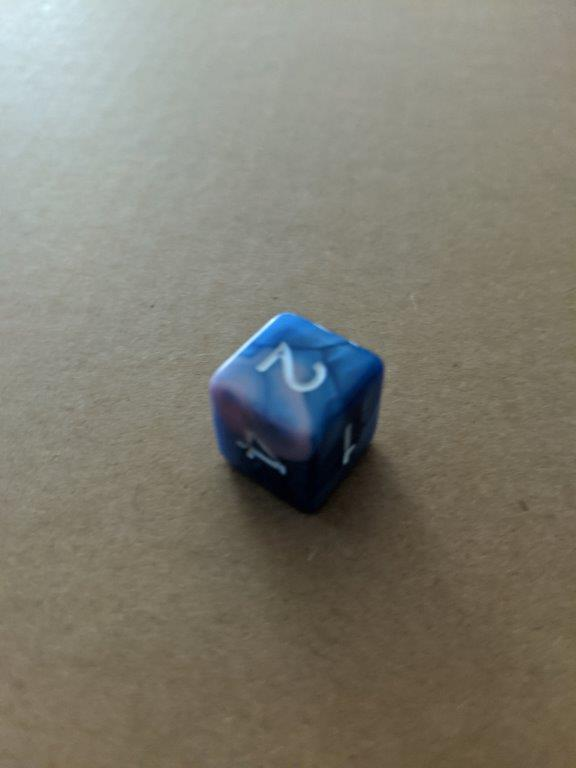d6-2: (209, 309, 385, 514)
